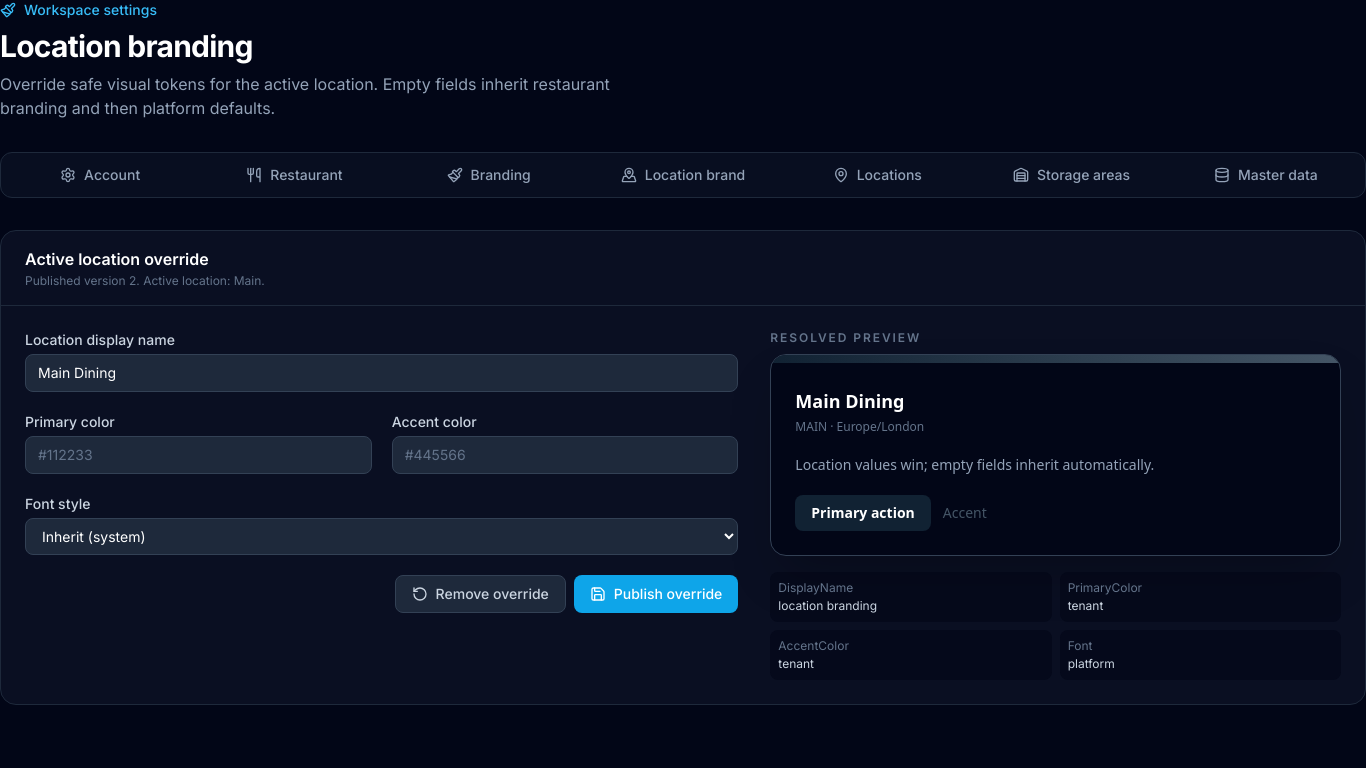
Test case: LocationBrandingPage › publishes normalized location overrides with the loaded version
In the field labelled "Location display name": (382, 373) [25,354,738,392], type " Patio "
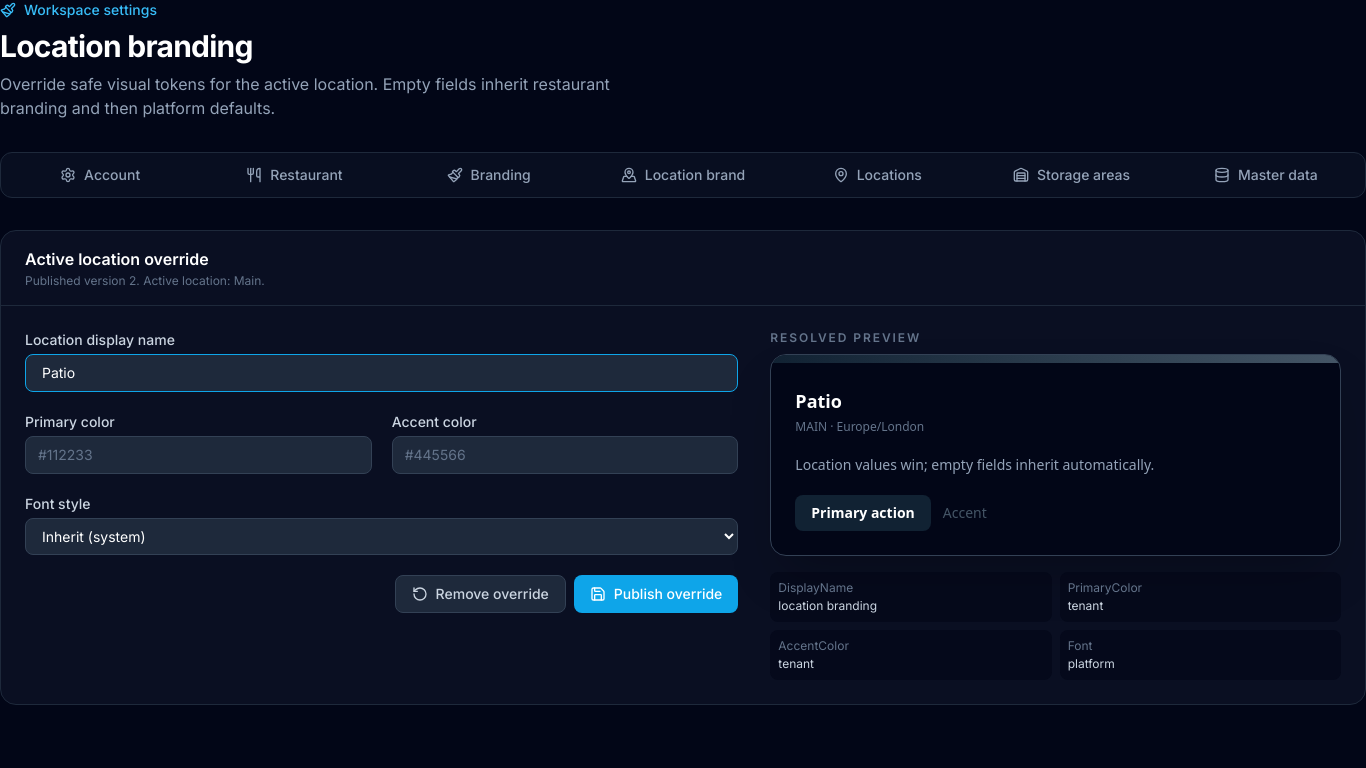
In the field labelled "Primary color": (198, 455) [25,436,372,474], type "#AABBCC"
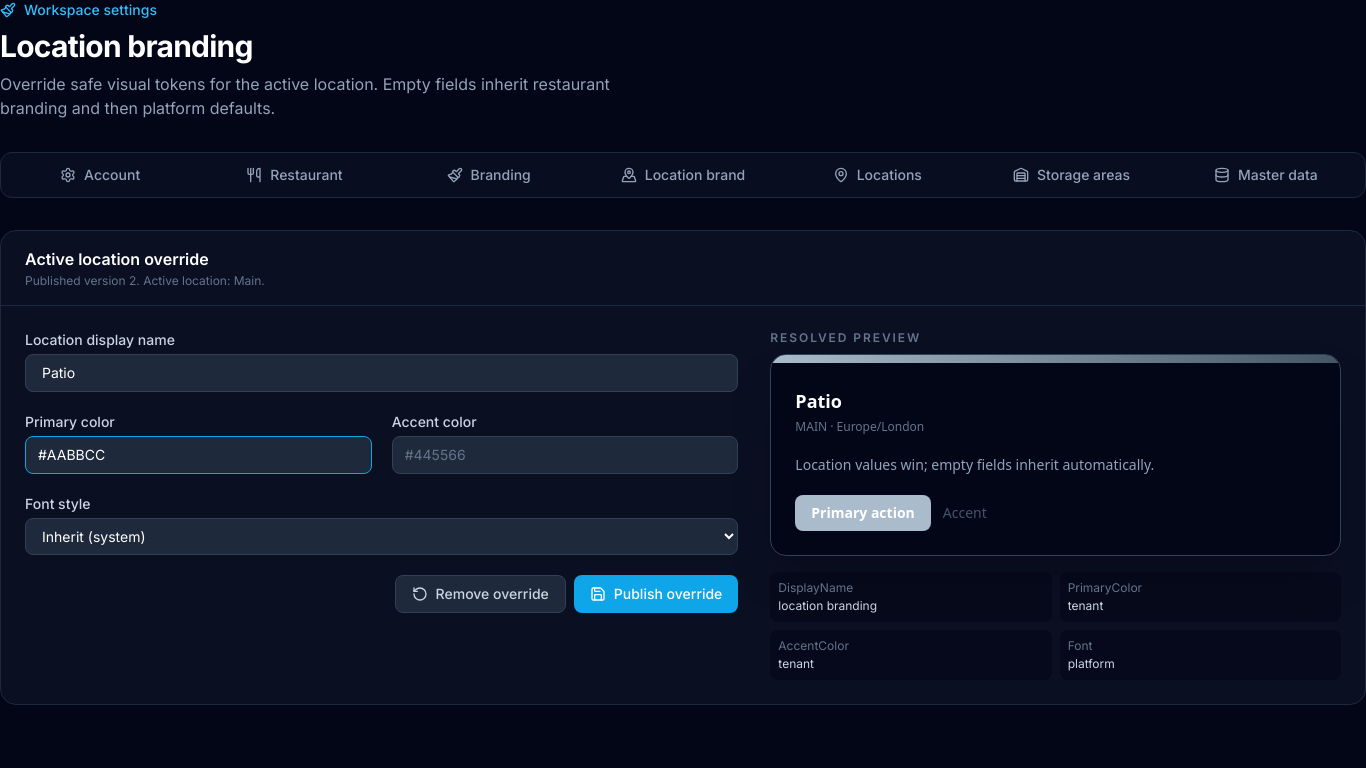
Click the button "Publish override": (656, 594) [574,575,738,613]
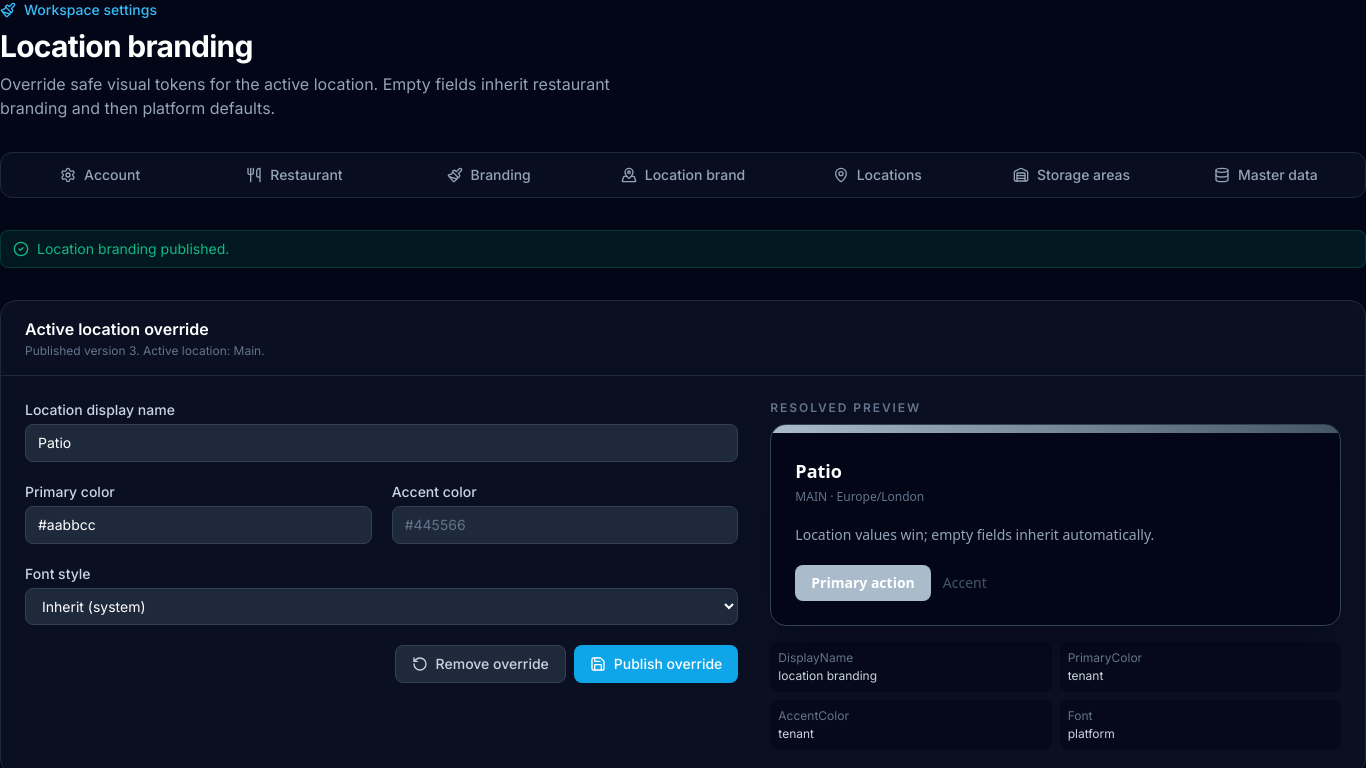
Expected: the text "Location branding published." is shown, [0,230,1365,268]
